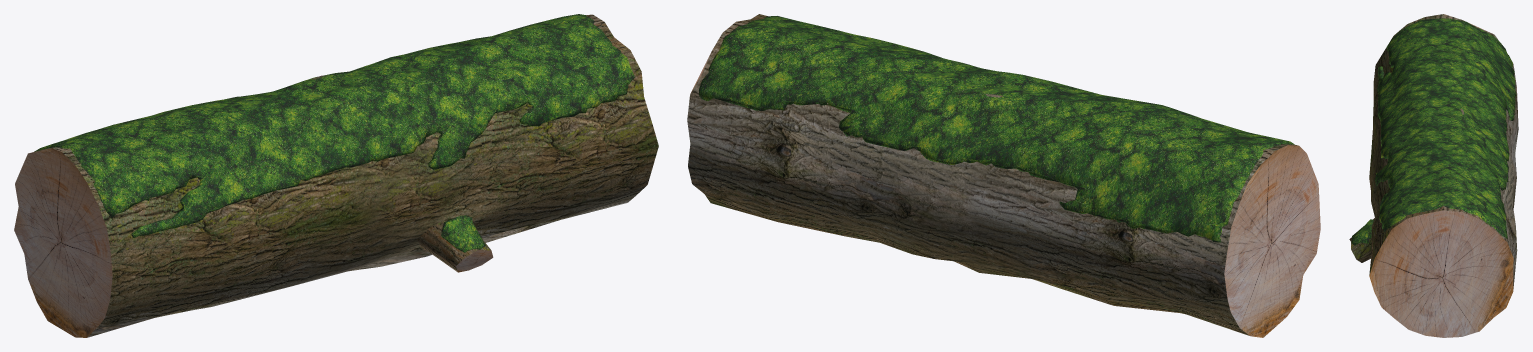
The model's file is musgo_trunk2.glb.
3 renders of one model, left to right at view 1: azimuth 30°, elevation 25°; view 2: azimuth 150°, elevation 25°; view 3: azimuth 270°, elevation 25°, orthographic. The views are drawn at different scales.
Visible parts, largest first — view 1: tronco, SnowBall.003; view 2: tronco, SnowBall.003; view 3: SnowBall.003, tronco.
Part boxes in pixels (x1=…): tronco: x1=14, y1=14, x2=658, y2=337; SnowBall.003: x1=34, y1=14, x2=634, y2=252; tronco: x1=687, y1=14, x2=1320, y2=337; SnowBall.003: x1=699, y1=16, x2=1294, y2=242; SnowBall.003: x1=1351, y1=18, x2=1516, y2=245; tronco: x1=1349, y1=14, x2=1518, y2=337.
Bounding box in the file's own units: 4.92 × 1.6 × 1.79.
3 materials, 3 textured.
